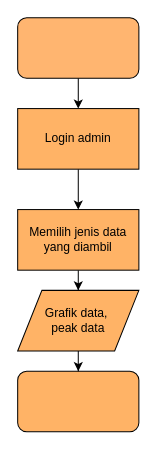
The diagram is 157 pixels wide and 449 high, and some of its shapes have lost their labels. Each missing label, with the box of its shape:
Mulai: (17, 17, 139, 78)
Selesai: (17, 370, 139, 432)
